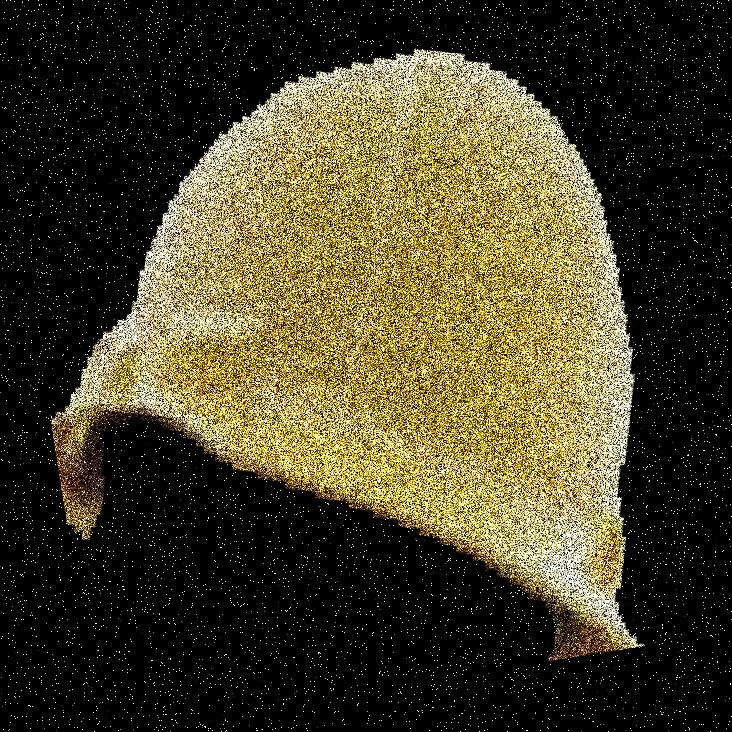Capacete: (256, 0, 608, 731)
